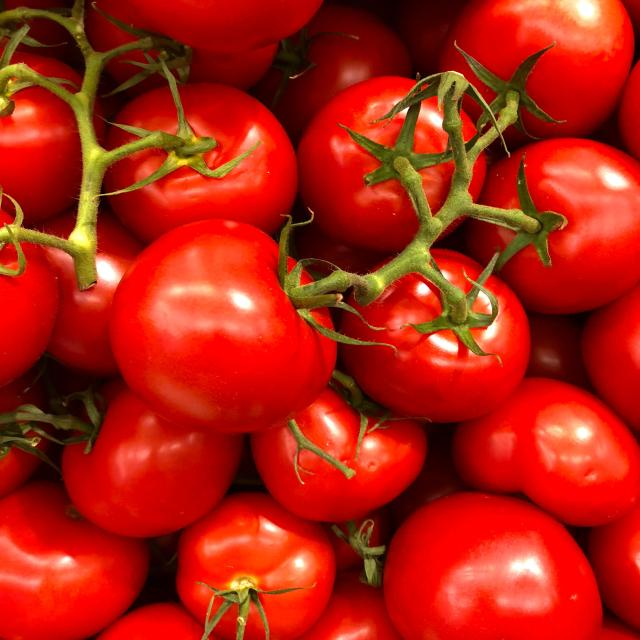Tomato: (102, 199, 344, 442), (352, 210, 548, 429), (98, 68, 307, 241), (322, 74, 495, 253), (154, 489, 340, 640)
